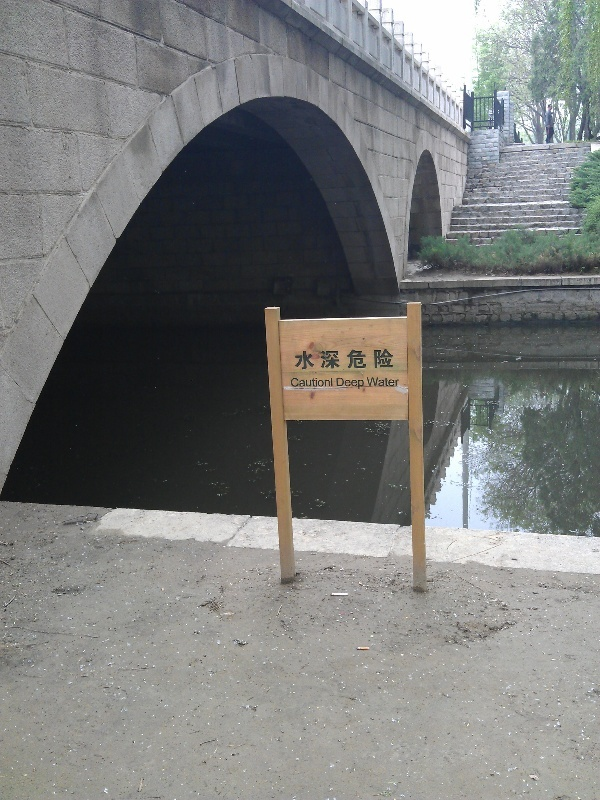text: (305, 350, 320, 370), (321, 350, 336, 370), (337, 350, 352, 370), (353, 350, 368, 370), (369, 350, 384, 370), (337, 377, 352, 390), (295, 350, 304, 370), (385, 377, 401, 388), (305, 377, 320, 388), (369, 377, 384, 388), (385, 350, 393, 370), (291, 377, 304, 388), (321, 377, 334, 388), (353, 377, 364, 390), (366, 377, 368, 388)
